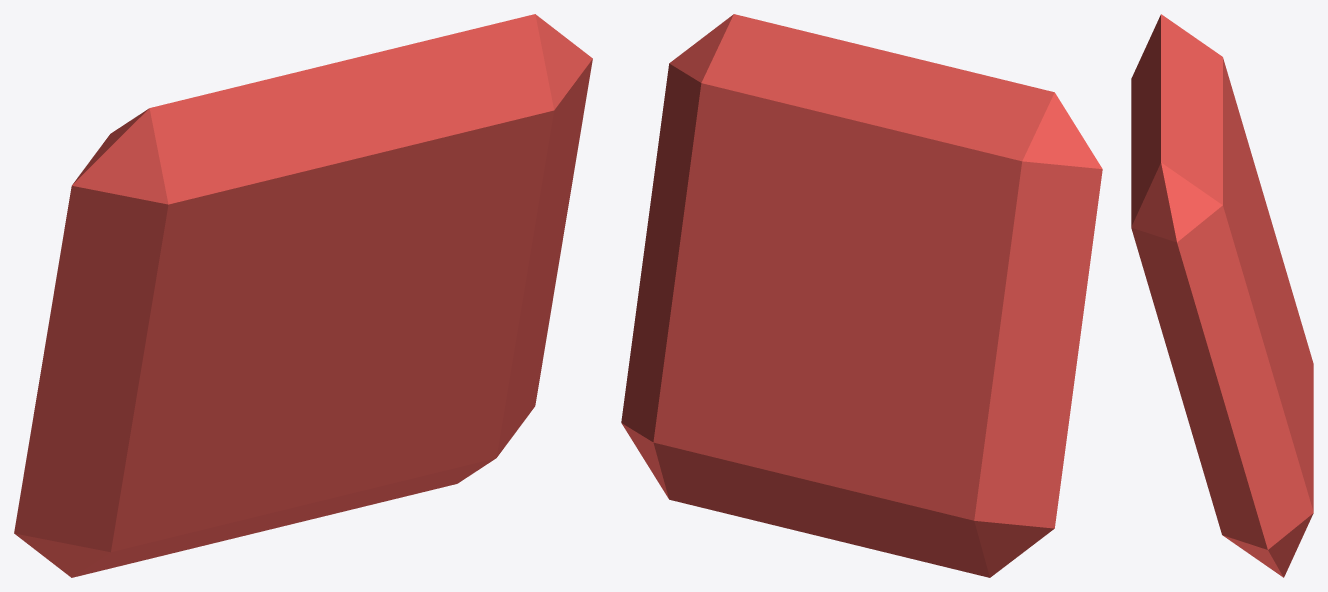
Rendered from pillowQuad.fbx.
3 renders of one model, left to right at view 1: azimuth 30°, elevation 25°; view 2: azimuth 150°, elevation 25°; view 3: azimuth 270°, elevation 25°, orthographic. The views are drawn at different scales.
Parts seen in each view (by area): view 1: pillow; view 2: pillow; view 3: pillow.
Part boxes in pixels (bbox=[...]): pillow: bbox=[14, 14, 592, 577]; pillow: bbox=[621, 14, 1102, 577]; pillow: bbox=[1131, 14, 1313, 577].
Size of the model in its own units: 2.3 by 2.22 by 0.8848.
